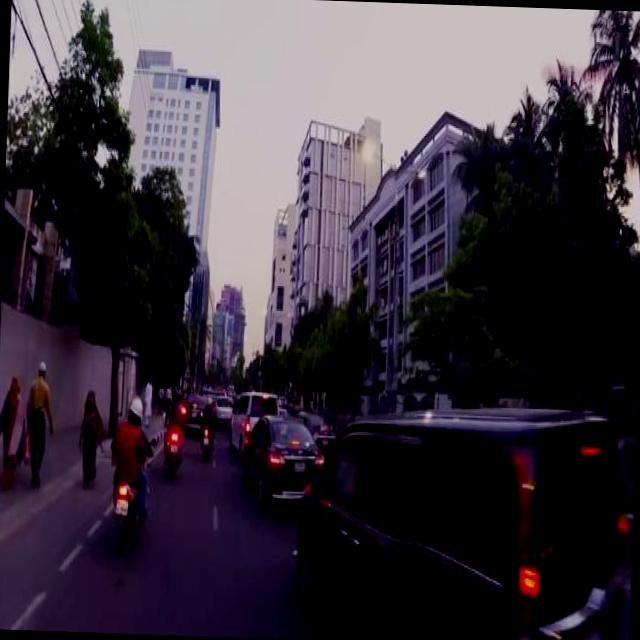car: (240, 410, 324, 504), (294, 409, 336, 446), (180, 390, 208, 428), (212, 390, 232, 421)
motorcycle: (105, 437, 150, 550), (160, 417, 182, 475), (198, 412, 212, 454)
truck: (290, 395, 629, 640), (228, 385, 278, 453)
